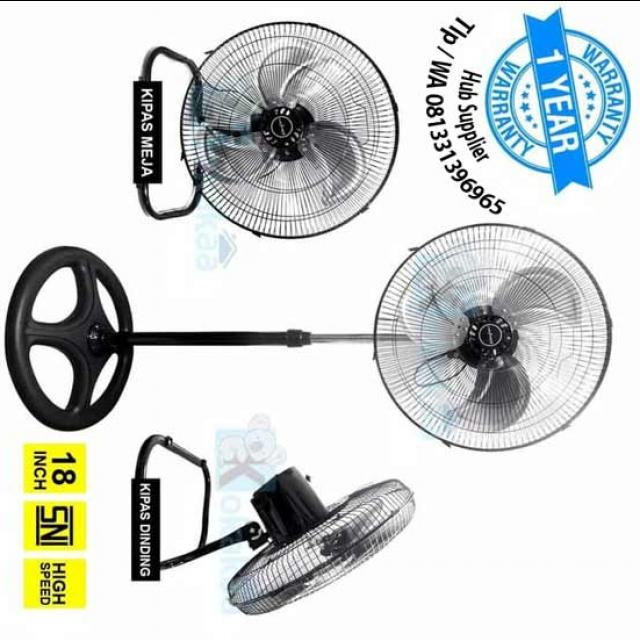fan: (8, 227, 612, 450)
